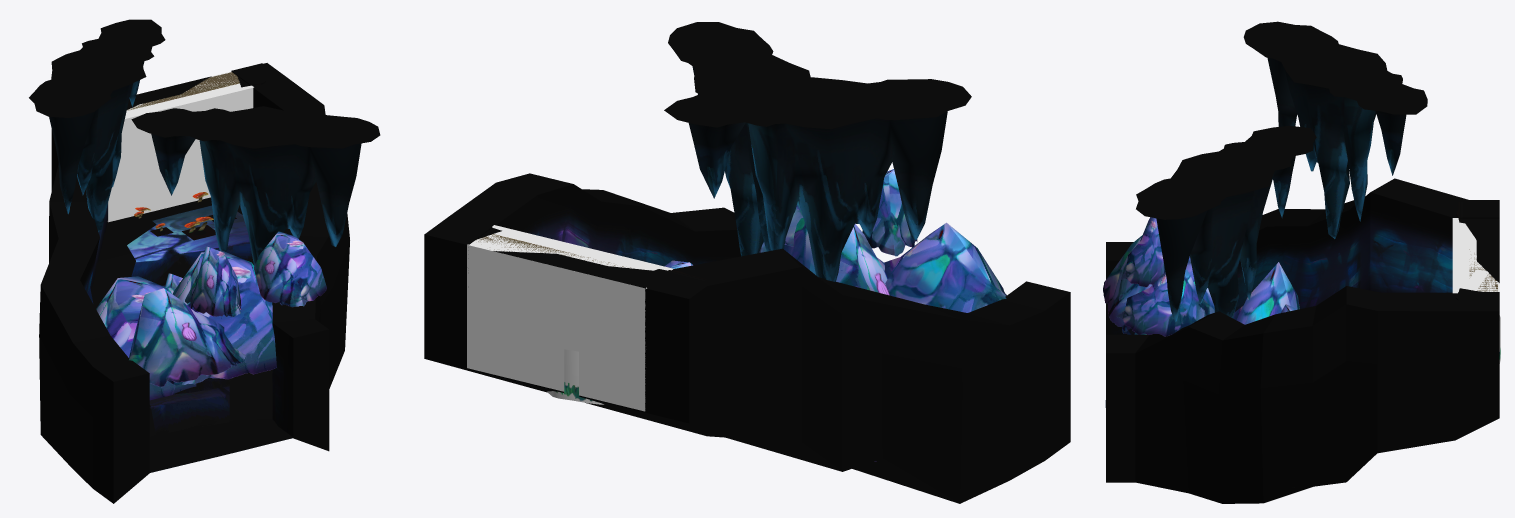
File: Dungeon_052_GoalStep_004.fbx
3 renders of one model, left to right at view 1: azimuth 30°, elevation 25°; view 2: azimuth 150°, elevation 25°; view 3: azimuth 270°, elevation 25°, orthographic. The views are drawn at different scales.
Visible parts, largest first — view 1: Dan1, Dungeon_011_Iwa004_1, Dungeon_011_Iwa004_1 (1), Dan2, DoorWay_NavMask (1), rock2 (1), Dan1_shadow, rock3 (1), rock1 (1), rock3, rock4 (1), Dun_011_Door_002 (+3 smaller); view 2: Dan1, Dungeon_011_Iwa004_1 (1), DoorWay_NavMask (1), Dungeon_011_Iwa004_1, rock2 (1), Dun_011_Door_002, rock3 (1), rock4 (1), Plane003 (1); view 3: Dan1, Dungeon_011_Iwa004_1, Dungeon_011_Iwa004_1 (1), rock1 (1), Dun_011_Door_002, rock3, rock4 (1), DoorWay_NavMask (1), rock2 (1).
Boxes of the visible parts, x1,y1,x2,y2 form: Dan1: (39, 63, 349, 503); Dungeon_011_Iwa004_1: (131, 106, 380, 265); Dungeon_011_Iwa004_1 (1): (29, 19, 165, 231); Dan2: (127, 205, 292, 472); DoorWay_NavMask (1): (107, 71, 253, 222); rock2 (1): (129, 288, 245, 386); Dan1_shadow: (91, 205, 292, 472); rock3 (1): (167, 250, 276, 385); rock1 (1): (254, 231, 326, 307); rock3: (96, 276, 196, 400); rock4 (1): (185, 246, 241, 316); Dun_011_Door_002: (127, 63, 281, 109); Dan1: (424, 173, 1070, 503); Dungeon_011_Iwa004_1 (1): (664, 77, 971, 281); DoorWay_NavMask (1): (467, 225, 673, 411); Dungeon_011_Iwa004_1: (668, 22, 810, 256); rock2 (1): (884, 222, 1006, 312); Dun_011_Door_002: (431, 217, 706, 412); rock3 (1): (784, 218, 889, 295); rock4 (1): (862, 169, 917, 256); Plane003 (1): (547, 349, 603, 404); Dan1: (1106, 178, 1499, 503); Dungeon_011_Iwa004_1: (1136, 125, 1316, 322); Dungeon_011_Iwa004_1 (1): (1243, 21, 1427, 238); rock1 (1): (1116, 269, 1214, 336); Dun_011_Door_002: (1455, 201, 1499, 307); rock3: (1233, 262, 1299, 324); rock4 (1): (1120, 217, 1165, 287); DoorWay_NavMask (1): (1452, 218, 1499, 293); rock2 (1): (1103, 235, 1190, 334).
Size of what is drawn, in the model's own units: 7.31 by 6.63 by 6.85.
